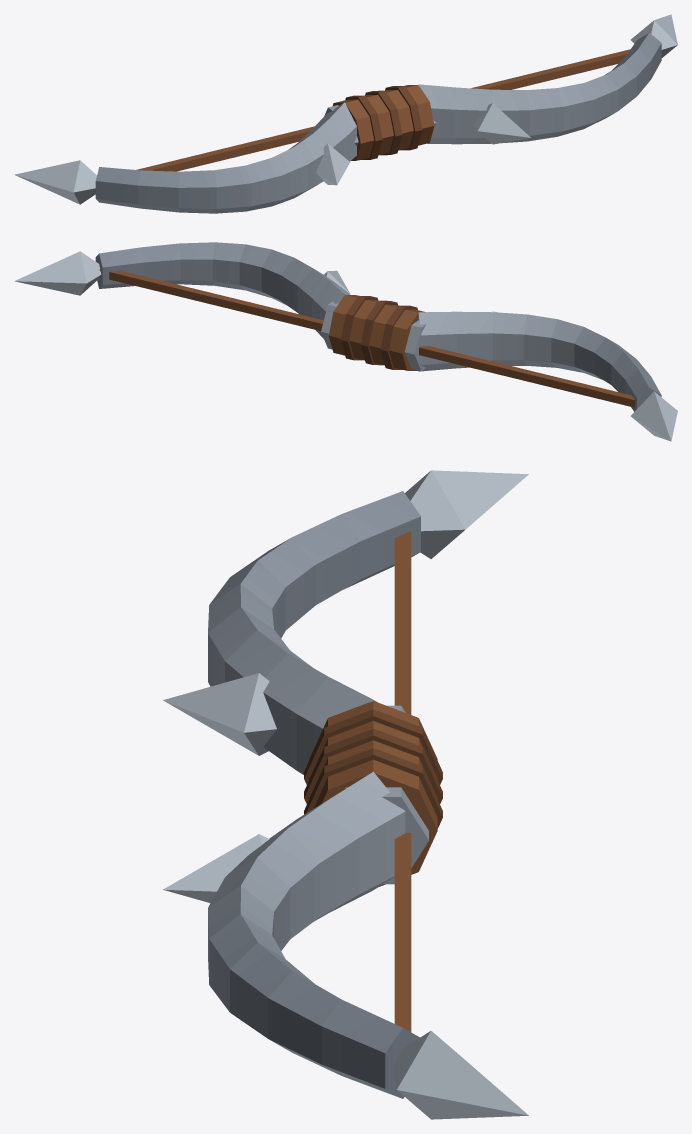
File: ironBow.glb
3 views of the same model, one above another, from view 1: azimuth 30°, elevation 25°; view 2: azimuth 150°, elevation 25°; view 3: azimuth 270°, elevation 25° (orthographic). The views are drawn at different scales.
Visible parts, largest first — view 1: ironBow; view 2: ironBow; view 3: ironBow.
Boxes of the visible parts, left/top/right/bottom form: ironBow: left=14, top=14, right=677, bottom=213; ironBow: left=14, top=242, right=677, bottom=441; ironBow: left=163, top=470, right=528, bottom=1119.
Size of the model in its own units: 2.2 by 0.2014 by 0.5318.
Materials: 1 (1 with a texture image).
